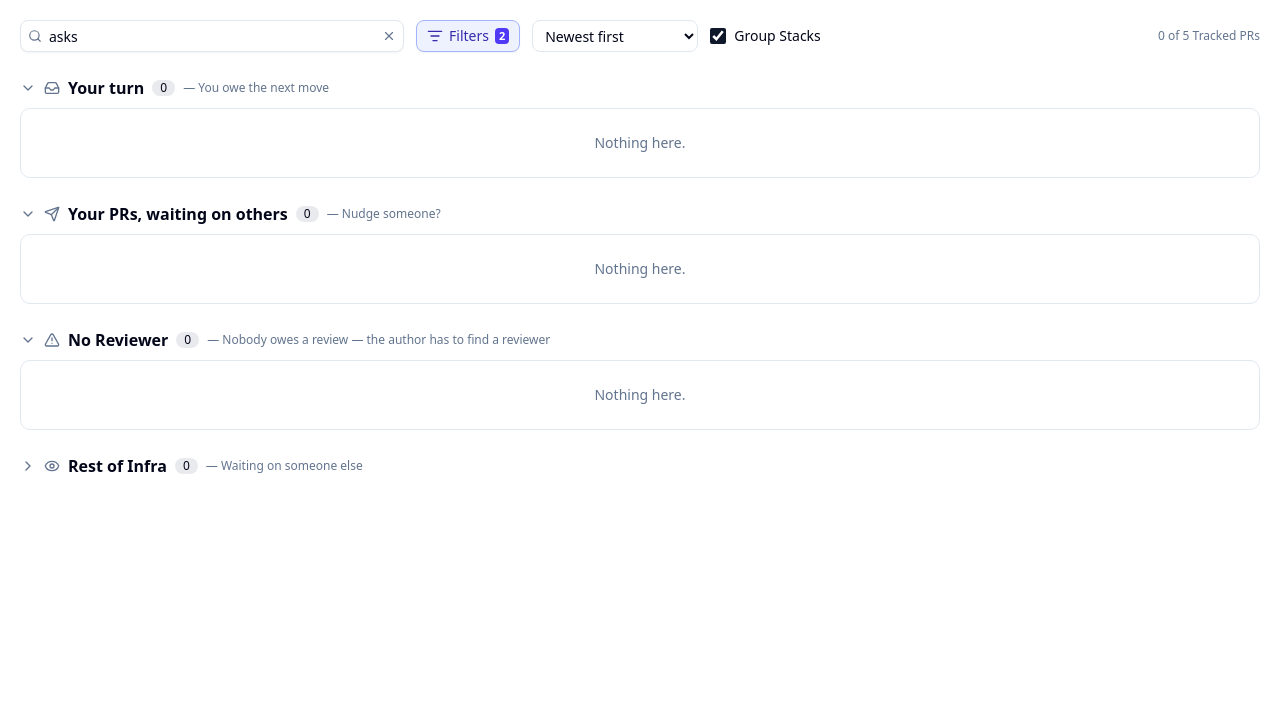
the Inbox below 1280px › its filters › reset from the panel, keeping the search, which has its own clear button
This screenshot has width=1280, height=713.
Step 1. Click the button "Filters 2" → click(468, 36), box [416, 20, 520, 52]
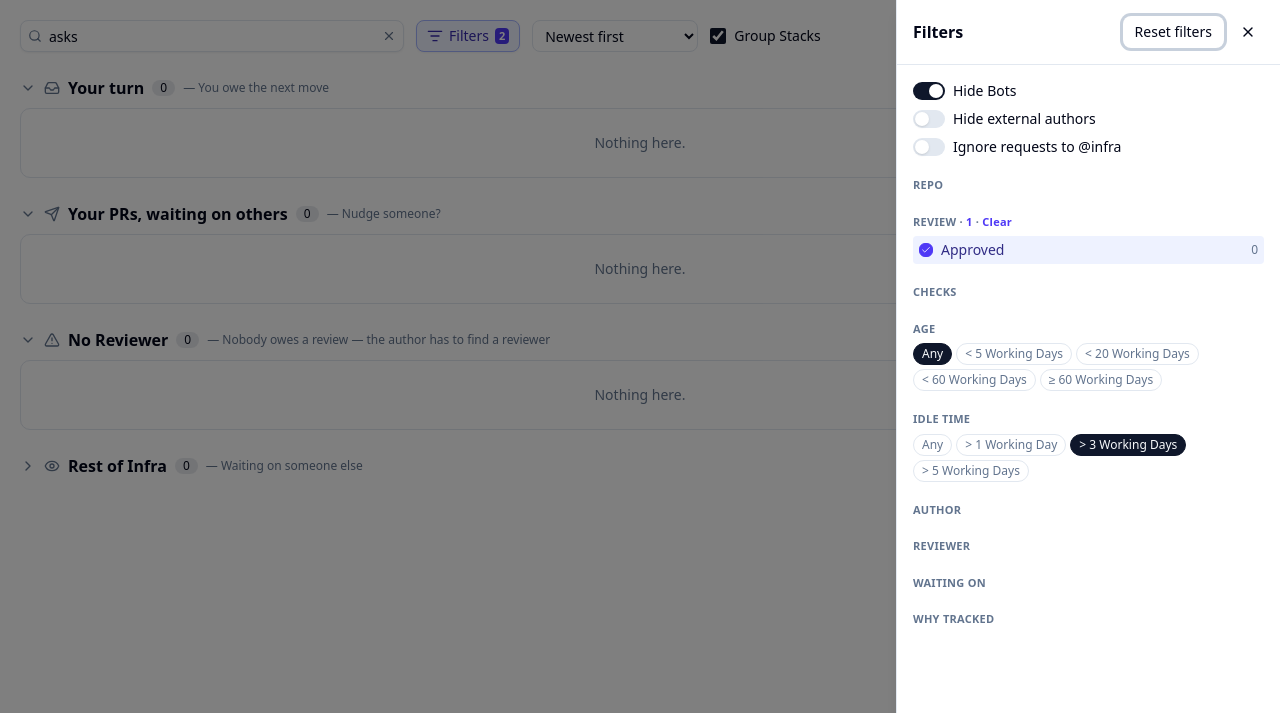
Step 2. Click the button "Reset filters" → click(1173, 32), box [1123, 16, 1224, 48]
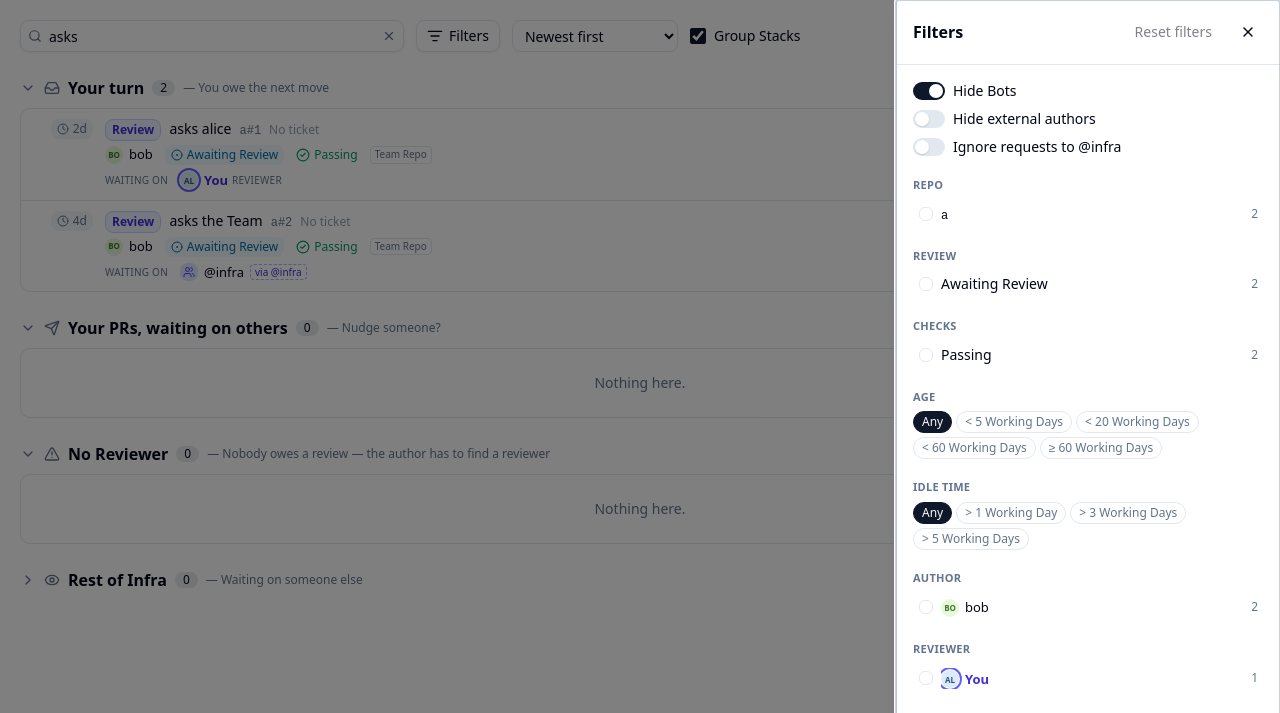
Check: the button "Filters" is shown, box [416, 20, 500, 52]
Check: the button "Reset filters" is disabled, box [1123, 16, 1224, 48]
